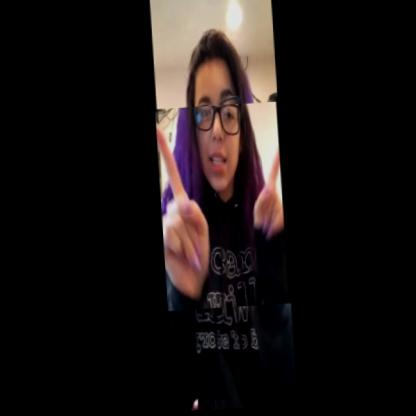NiceToMeetYou: (149, 103, 294, 312)
